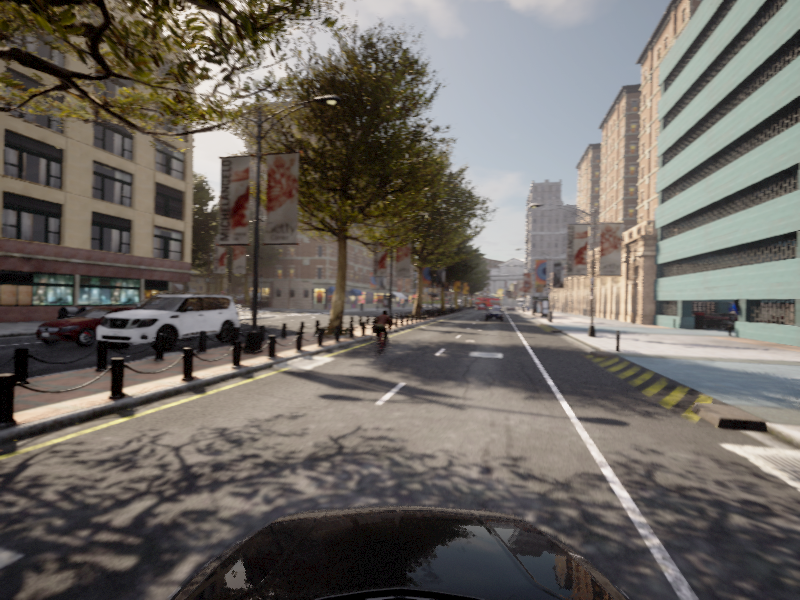vehicle: (86, 290, 246, 356), (25, 305, 173, 349), (367, 309, 397, 360), (484, 308, 503, 321)
